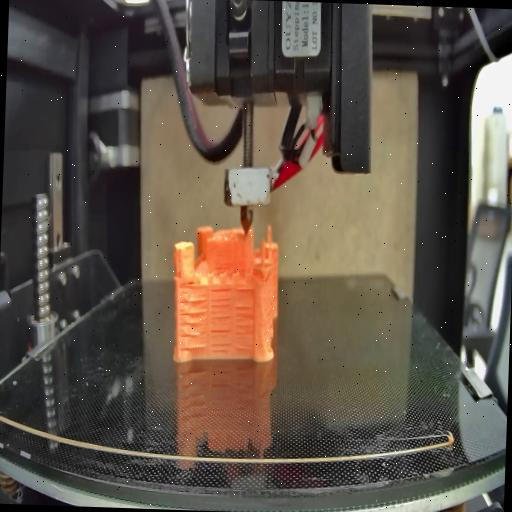cracks: (178, 294, 208, 350), (232, 302, 256, 352), (210, 289, 232, 322), (208, 327, 231, 355), (215, 261, 233, 274), (234, 284, 256, 294), (183, 275, 198, 286)
